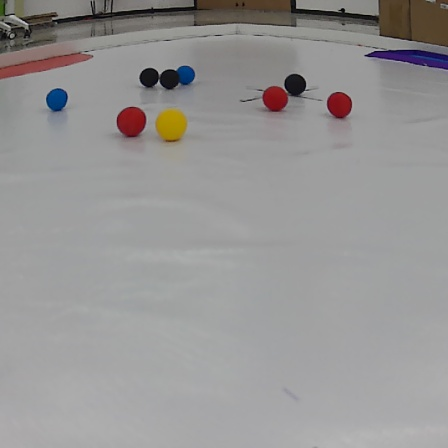black: (282, 72, 313, 97), (134, 62, 160, 88), (160, 68, 180, 92)
blue: (43, 87, 77, 109), (174, 60, 201, 85)
red: (367, 42, 448, 71), (111, 105, 150, 136), (326, 88, 355, 118), (262, 86, 288, 112)
red_base: (1, 50, 99, 79)
yellow: (155, 107, 188, 142)
